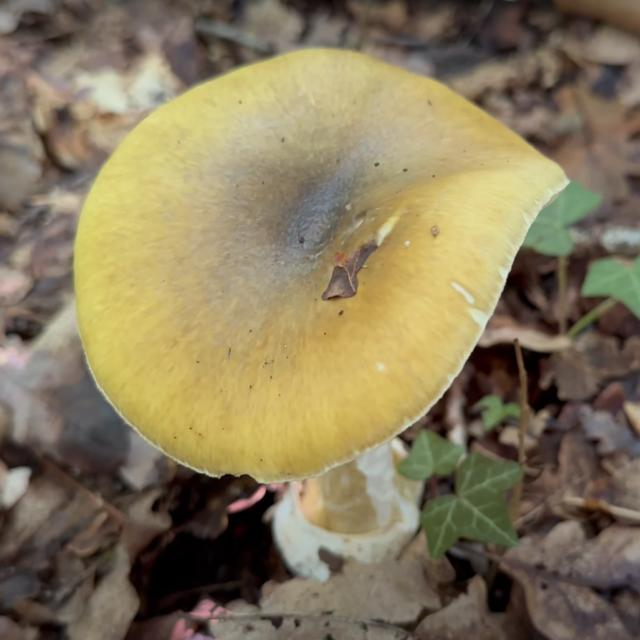death-cap: (72, 46, 570, 583)
